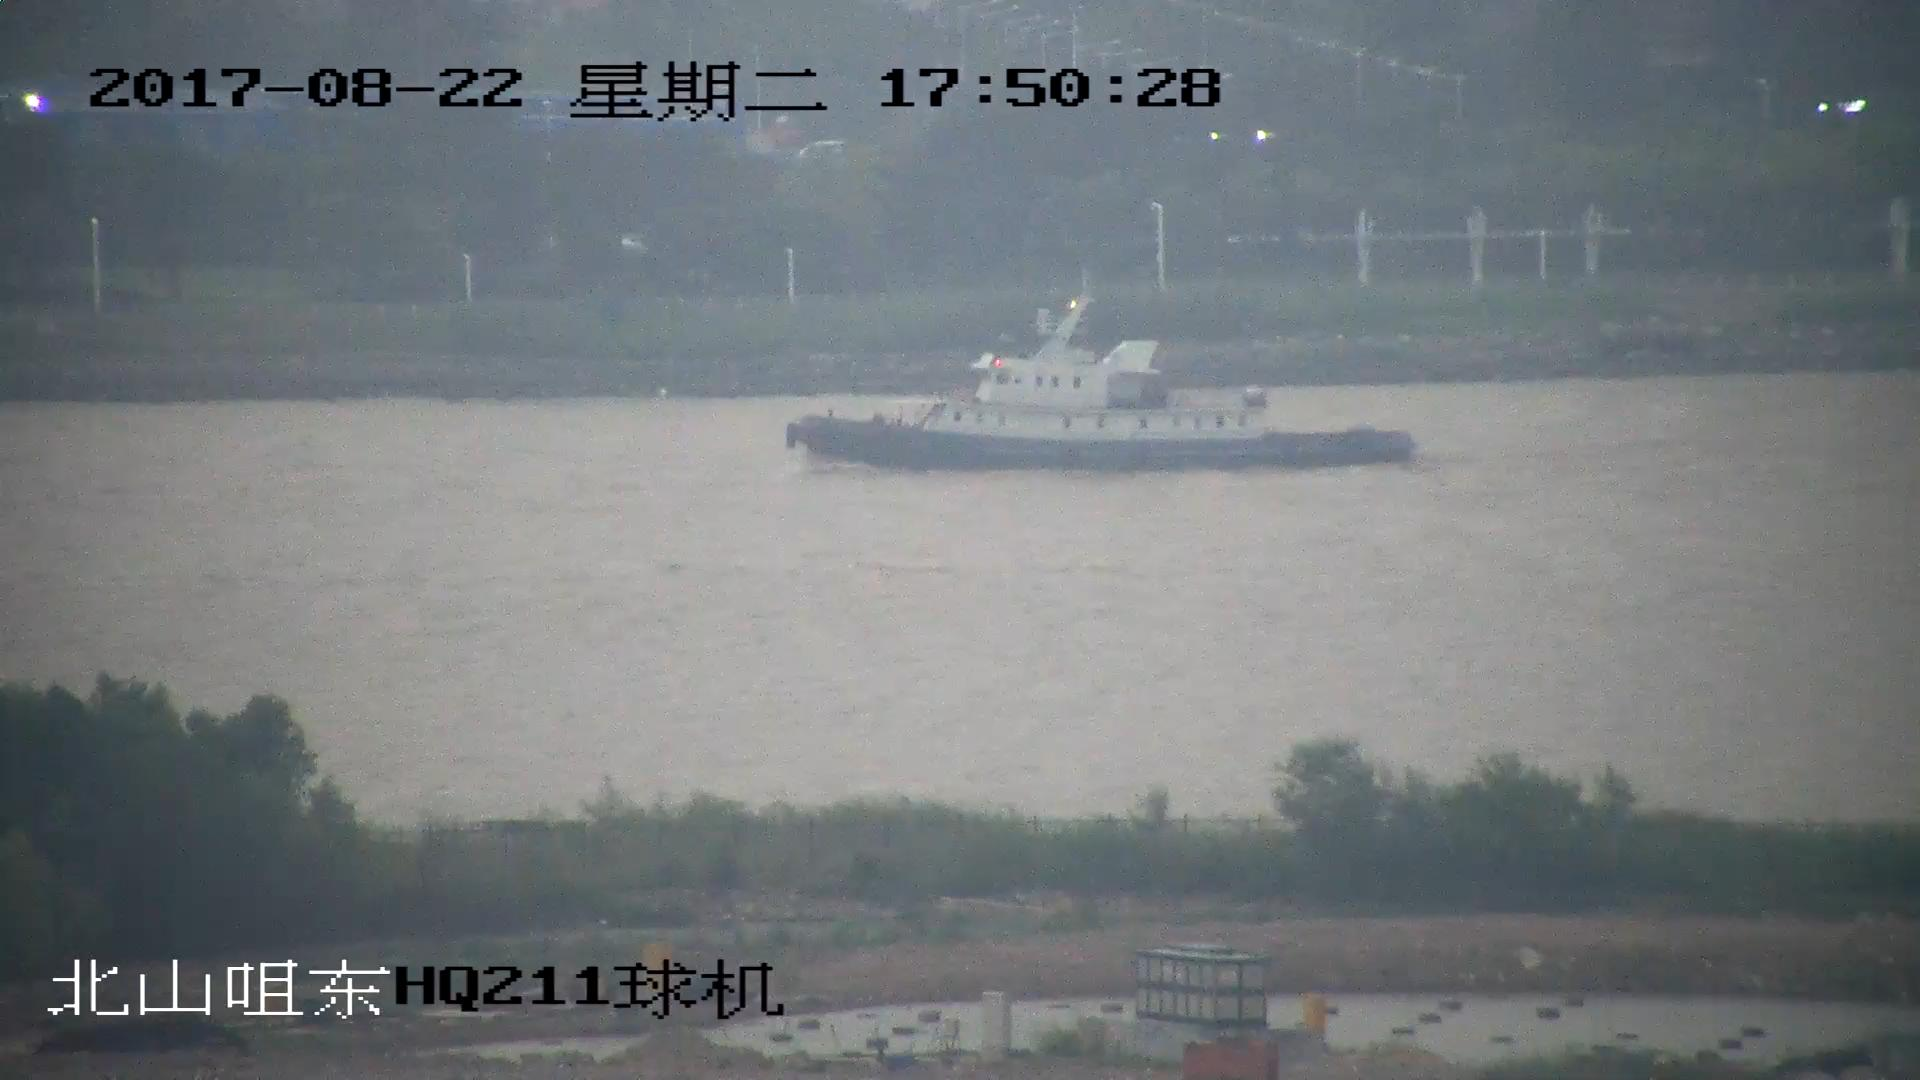passenger ship: (790, 289, 1412, 467)
